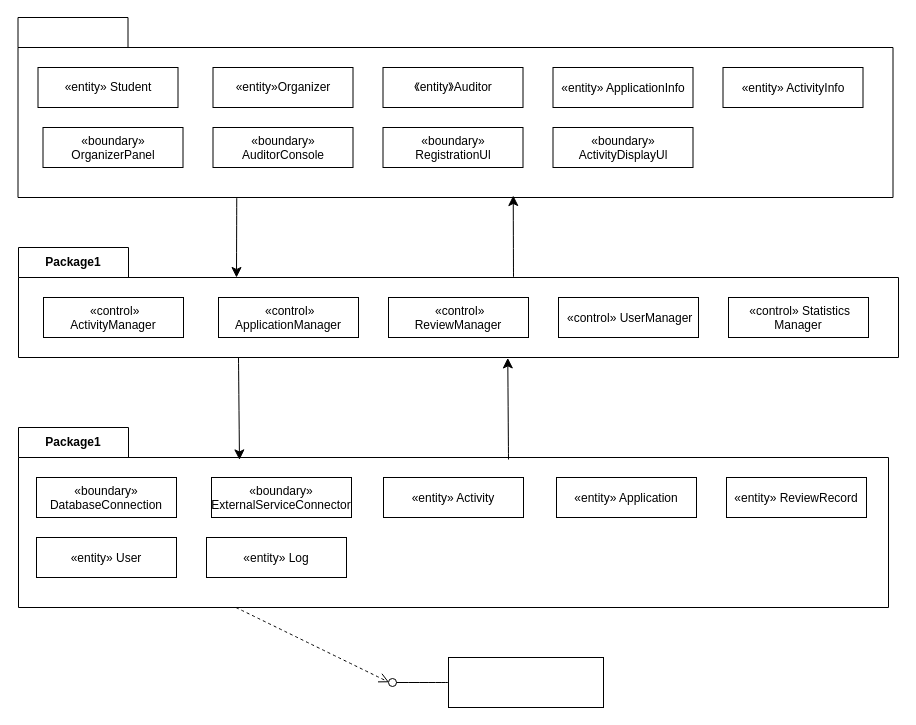
This 916x725 diagram has some shape labels left out. The shapes that lost their labels are listed below. From the top down, each one's box as (x1, y1, x2, y2) in pixels, then its label:
(17, 16, 893, 198): 用户交互层
(448, 656, 604, 708): Application System
